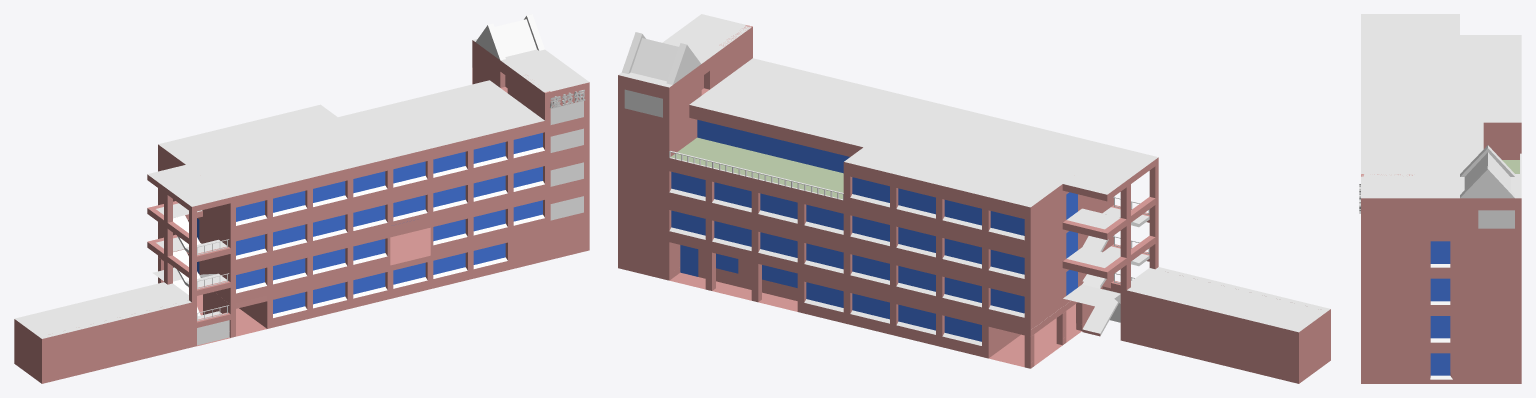
File: honkan_m.glb
3 views of the same model, side by side, from view 1: azimuth 30°, elevation 25°; view 2: azimuth 150°, elevation 25°; view 3: azimuth 270°, elevation 25° (orthographic). The views are drawn at different scales.
Visible parts, largest first — view 1: 本校舎; view 2: 本校舎; view 3: 本校舎.
Part boxes in pixels (x1,y1,x2,y2): 本校舎: (14,14,589,383); 本校舎: (618,14,1330,383); 本校舎: (1361,14,1521,383).
Size of the model in its own units: 20.44 by 6.96 by 4.75.
1 material, 1 textured.
